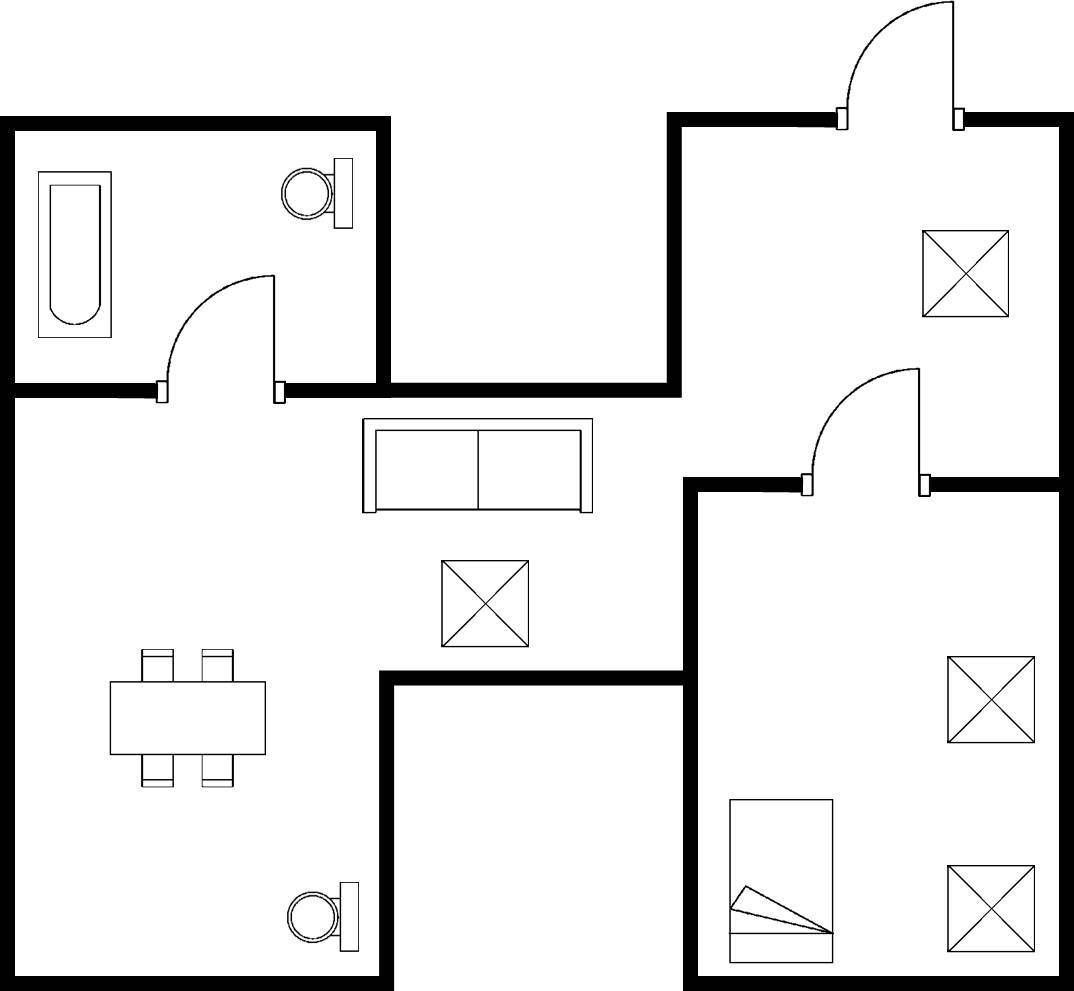bed: (720, 792, 840, 970)
coffee_table: (937, 856, 1044, 960), (912, 222, 1016, 328), (430, 552, 536, 655), (939, 647, 1043, 751)
dining_table: (101, 639, 276, 795)
large_sink: (275, 151, 360, 240), (277, 875, 367, 959)
large_sofa: (353, 410, 603, 522)
tub: (29, 164, 120, 344)
